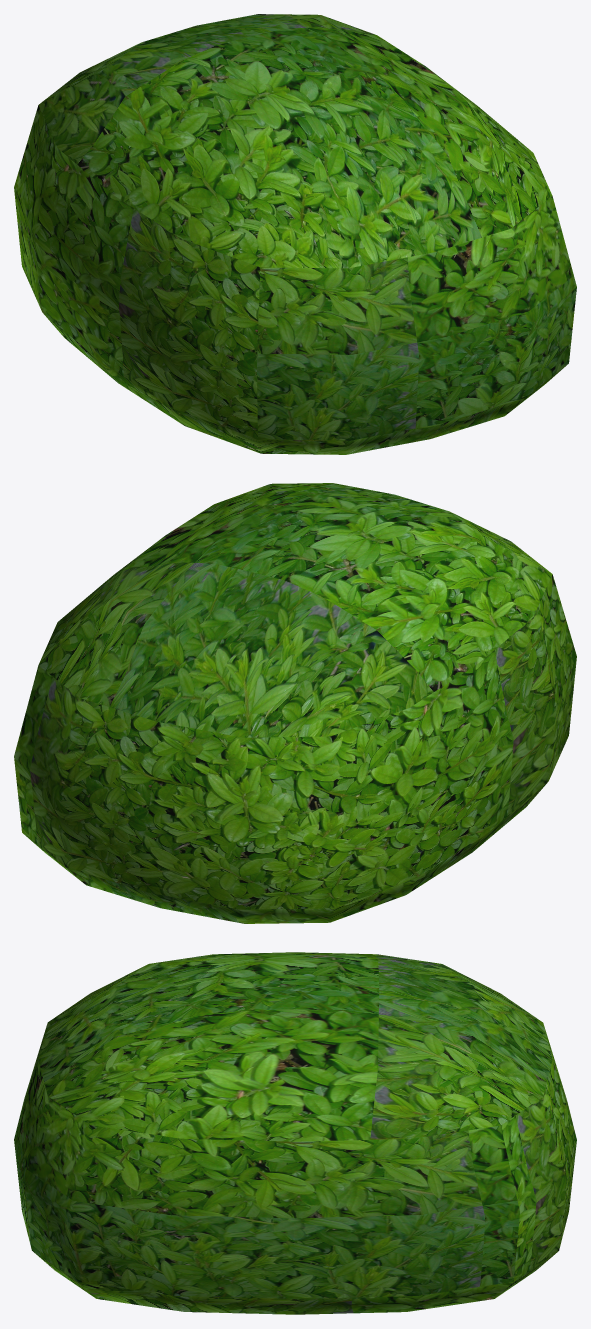
File: bush.fbx
The picture shows the model from 3 angles, top to bottom: view 1: azimuth 30°, elevation 25°; view 2: azimuth 150°, elevation 25°; view 3: azimuth 270°, elevation 25°; orthographic projection. The views are drawn at different scales.
Parts seen in each view (by area): view 1: pCube7; view 2: pCube7; view 3: pCube7.
Boxes of the visible parts, left/top/right/bottom form: pCube7: left=14, top=14, right=576, bottom=454; pCube7: left=14, top=483, right=576, bottom=923; pCube7: left=14, top=952, right=576, bottom=1314.
Size of the model in its own units: 1.22 by 0.8088 by 1.61.
1 material, 1 textured.
